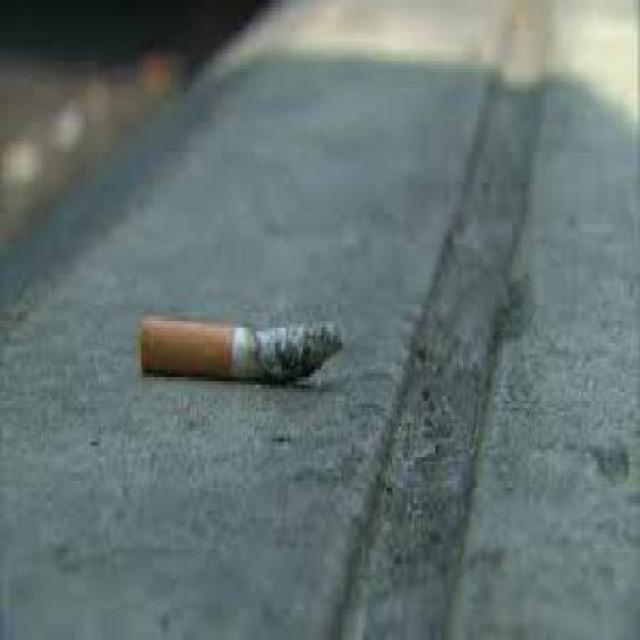cigarette: (129, 289, 342, 405)
